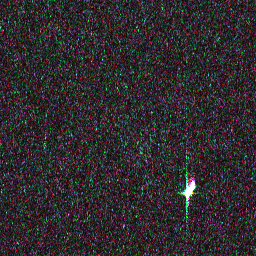ship: (181, 179, 198, 199)
